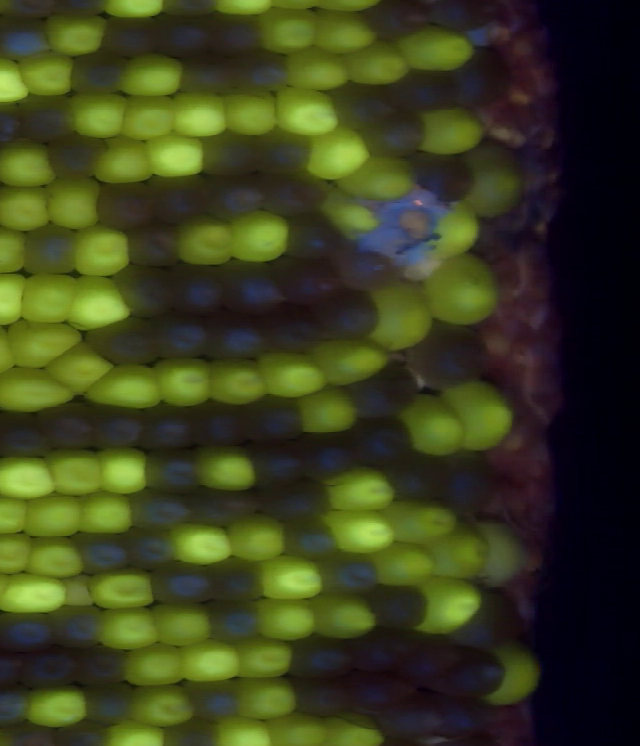fluorescent: (418, 250, 508, 332), (358, 276, 441, 358), (438, 377, 522, 455), (458, 137, 532, 222), (396, 388, 473, 462), (391, 18, 483, 79), (413, 573, 490, 640), (3, 315, 88, 374), (306, 336, 394, 391), (478, 640, 547, 710), (322, 504, 406, 561), (466, 514, 533, 585), (426, 519, 498, 585), (63, 271, 133, 338), (339, 151, 425, 205), (303, 120, 374, 185), (380, 495, 466, 548), (319, 461, 400, 516), (122, 675, 201, 730), (339, 35, 415, 92), (252, 347, 332, 401), (90, 130, 162, 190), (412, 100, 489, 155), (38, 172, 106, 234), (226, 208, 295, 269), (0, 363, 79, 416), (223, 509, 297, 565), (44, 342, 113, 402), (41, 444, 112, 502), (283, 40, 355, 97), (84, 361, 165, 411), (270, 83, 345, 137), (148, 354, 220, 410), (73, 220, 138, 282), (116, 47, 190, 101), (142, 126, 212, 183), (175, 210, 239, 272), (199, 355, 273, 408), (95, 601, 166, 656), (252, 3, 327, 55), (233, 670, 305, 724), (143, 600, 217, 652), (368, 540, 442, 592), (257, 551, 328, 605), (307, 4, 379, 57), (192, 445, 261, 500), (250, 591, 321, 644), (13, 45, 80, 101), (19, 530, 88, 584), (18, 268, 79, 329), (118, 638, 189, 690), (17, 490, 92, 539), (428, 199, 484, 264), (218, 84, 283, 140), (167, 518, 238, 569), (118, 87, 183, 142), (294, 382, 360, 436), (317, 185, 380, 241), (229, 633, 304, 680), (0, 132, 60, 190), (171, 635, 242, 684), (65, 89, 133, 140), (93, 445, 156, 500), (308, 594, 383, 640), (168, 87, 233, 140), (43, 8, 111, 58), (0, 449, 62, 503), (71, 487, 139, 536), (88, 565, 160, 611), (0, 568, 71, 614), (0, 178, 57, 235), (23, 683, 90, 731), (318, 709, 390, 746), (262, 709, 333, 746), (207, 710, 278, 746), (101, 715, 173, 746), (0, 526, 38, 578), (0, 223, 35, 279), (0, 52, 34, 107), (59, 570, 98, 613), (0, 493, 34, 538)
nonfluorescent: (405, 317, 497, 394), (445, 584, 528, 654), (340, 359, 429, 421), (428, 641, 511, 705), (432, 446, 504, 518), (448, 43, 514, 114), (109, 259, 187, 316), (405, 148, 483, 205), (314, 285, 388, 345), (388, 625, 461, 685), (327, 78, 402, 135), (282, 630, 362, 683), (344, 408, 418, 465), (250, 124, 319, 185), (391, 64, 468, 118), (426, 686, 504, 739), (368, 696, 452, 745), (262, 163, 335, 219), (148, 169, 217, 228), (85, 313, 163, 365), (363, 578, 438, 632), (196, 307, 271, 361), (217, 258, 288, 315), (195, 128, 266, 185), (358, 108, 434, 161), (167, 258, 233, 319), (86, 396, 153, 455), (285, 670, 362, 721), (33, 399, 103, 455), (94, 12, 173, 61), (311, 547, 385, 599), (278, 212, 353, 263), (385, 448, 452, 505), (200, 171, 272, 224), (13, 90, 82, 145), (144, 557, 218, 608), (261, 475, 338, 524), (18, 221, 83, 279), (201, 552, 268, 608), (235, 393, 310, 443), (292, 428, 366, 478), (228, 41, 295, 96), (273, 513, 345, 564), (343, 627, 426, 671), (123, 485, 196, 535), (92, 176, 157, 232), (44, 128, 112, 181), (245, 438, 317, 488), (123, 215, 185, 273), (67, 45, 133, 99), (272, 254, 347, 301), (141, 444, 205, 499), (187, 485, 267, 529), (355, 1, 435, 45), (133, 399, 200, 451), (178, 674, 252, 721), (152, 9, 214, 65), (13, 642, 81, 693), (146, 307, 218, 355), (202, 594, 268, 646), (78, 678, 145, 729), (254, 304, 329, 349), (188, 398, 255, 448), (45, 598, 110, 648), (175, 51, 242, 99), (349, 666, 422, 710), (203, 5, 263, 58), (335, 248, 404, 294), (72, 529, 136, 578), (0, 405, 56, 461), (119, 522, 180, 572), (0, 605, 62, 654), (67, 641, 135, 685), (423, 1, 506, 37), (0, 11, 55, 65), (48, 714, 115, 746), (158, 715, 224, 746), (0, 720, 64, 746), (0, 678, 32, 727)
